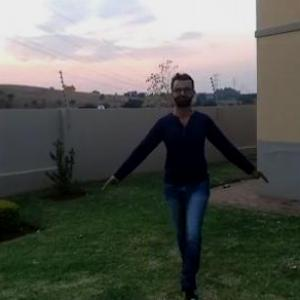land: (134, 85, 240, 269)
